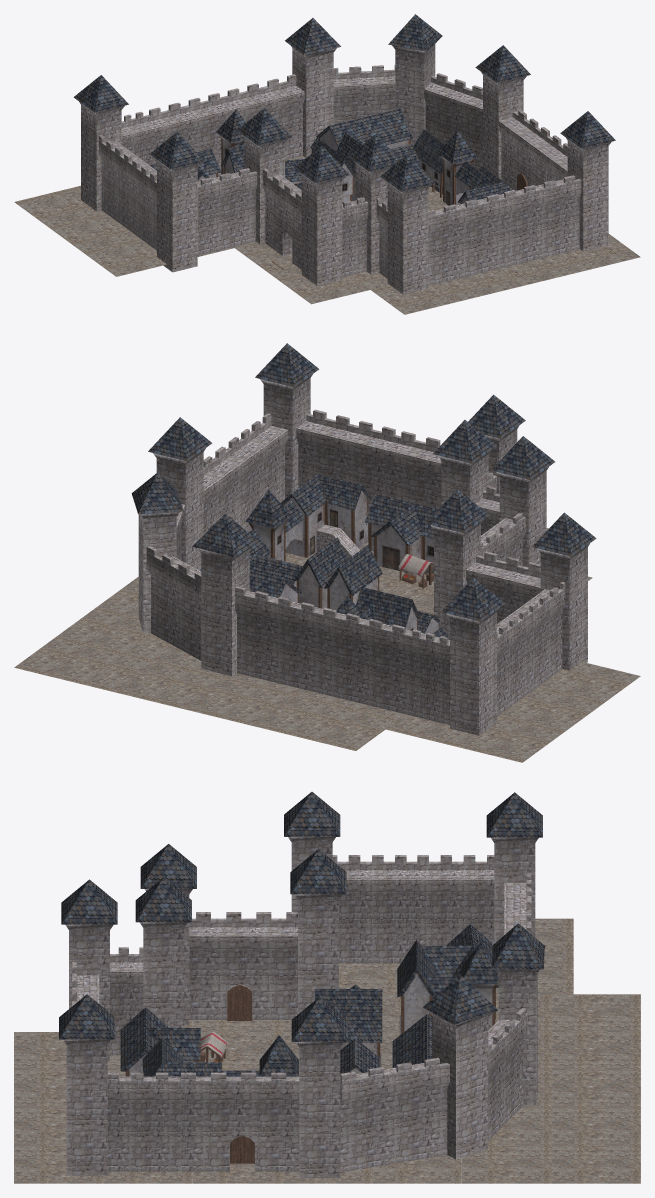
File: medi2.fbx
3 views of the same model, one above another, from view 1: azimuth 30°, elevation 25°; view 2: azimuth 150°, elevation 25°; view 3: azimuth 270°, elevation 25° (orthographic). The views are drawn at different scales.
Visible parts, largest first — view 1: obj10, obj1, tower, gate, house8, house3, house2, house4, wall, house6, house5, houseside3; view 2: obj10, obj1, tower, house4, house7, gate, wall, house6, house5, house3, house8, house1 (+2 smaller); view 3: obj10, obj1, gate, tower, wall, house7, house4, house5, house8, house3, house6, house1 (+1 smaller).
Boxes of the visible parts, box(x1,y1,x2,y2) form: obj10: box(73, 14, 615, 294); obj1: box(14, 156, 640, 314); tower: box(475, 45, 530, 179); gate: box(497, 110, 561, 190); house8: box(316, 108, 412, 151); house3: box(438, 130, 477, 205); house2: box(413, 129, 444, 197); house4: box(458, 165, 512, 204); wall: box(543, 143, 567, 181); house6: box(312, 139, 355, 203); house5: box(336, 133, 361, 201); houseside3: box(454, 161, 477, 194); obj10: box(131, 343, 596, 735); obj1: box(14, 528, 640, 762); tower: box(148, 417, 212, 570); house4: box(281, 474, 371, 557); house7: box(364, 494, 437, 572); gate: box(202, 437, 255, 534); wall: box(239, 413, 288, 510); house6: box(324, 545, 382, 610); house5: box(293, 537, 348, 608); house3: box(245, 490, 291, 561); house8: box(200, 568, 301, 602); house1: box(249, 554, 302, 587); obj10: box(59, 792, 544, 1175); obj1: box(14, 918, 640, 1183); gate: box(181, 1072, 299, 1171); tower: box(291, 997, 347, 1177); wall: box(107, 1072, 180, 1171); house7: box(120, 1007, 200, 1076); house4: box(142, 1037, 221, 1139); house5: box(331, 1005, 382, 1066); house8: box(392, 1014, 432, 1067); house3: box(259, 1035, 298, 1076); house6: box(314, 989, 382, 1066); house1: box(340, 1038, 379, 1073).
Bounding box in the file's own units: 7000 × 2203 × 7000.
